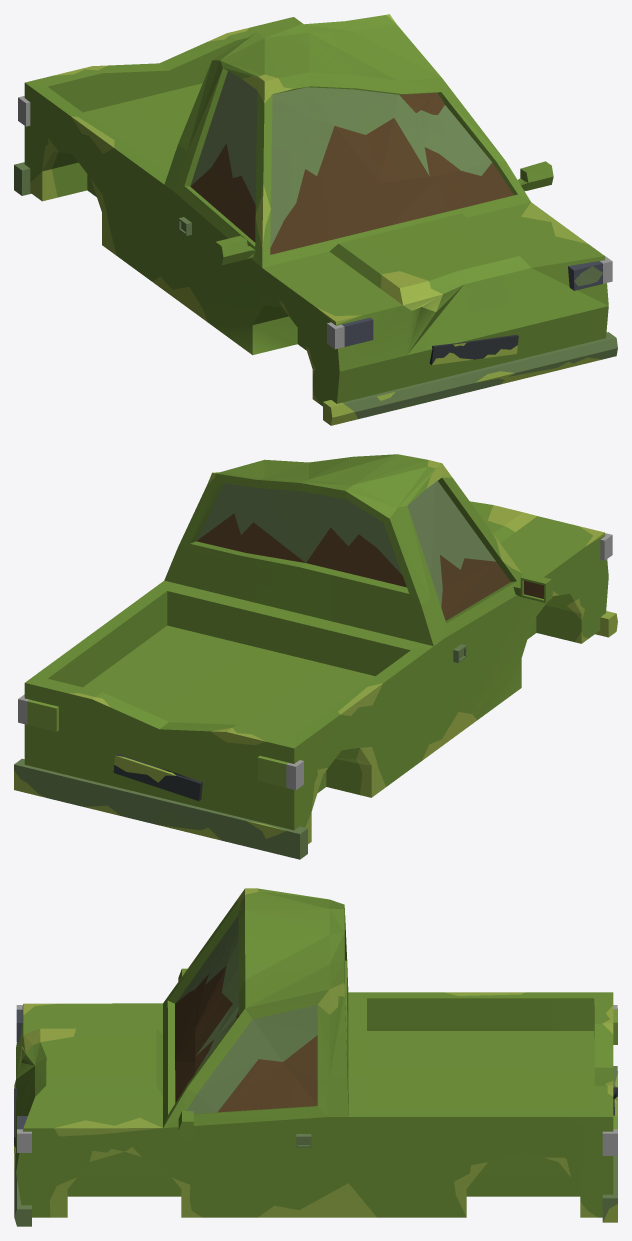
File: OldCar_04.fbx
3 views of the same model, one above another, from view 1: azimuth 30°, elevation 25°; view 2: azimuth 150°, elevation 25°; view 3: azimuth 270°, elevation 25° (orthographic). The views are drawn at different scales.
Parts seen in each view (by area): view 1: OldCar_04; view 2: OldCar_04; view 3: OldCar_04.
Part boxes in pixels (box(x1,y1,x2,y2)): OldCar_04: box(14, 14, 617, 425); OldCar_04: box(14, 454, 617, 859); OldCar_04: box(14, 888, 617, 1226).
Size of the model in its own units: 1.96 by 1.38 by 3.28.
